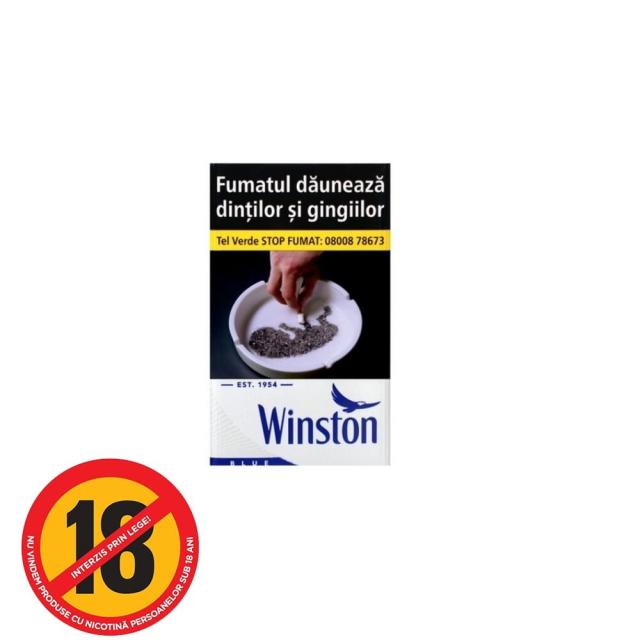winston: (203, 154, 402, 483)
